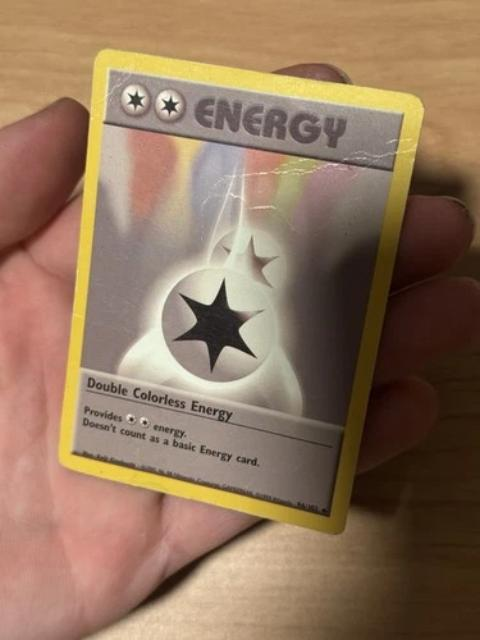Card: (51, 44, 429, 539)
Name: (76, 371, 244, 428)
